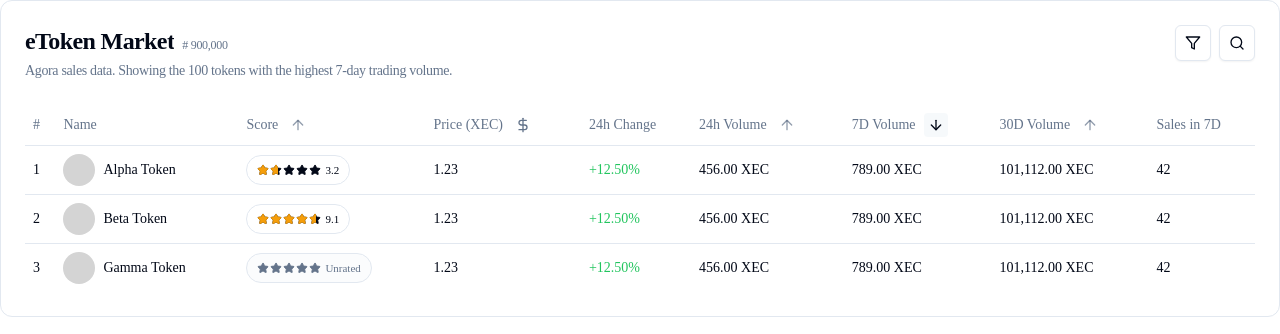
it: TokenTable bootstrap › sorts by score when clicking the Score column sort control
Check: the text "Alpha Token" is shown, box [103,160,176,180]
Check: the text "Beta Token" is shown, box [103,208,167,228]
Click the button without text next to "Score": {"x": 298, "y": 125} [286,113,310,137]
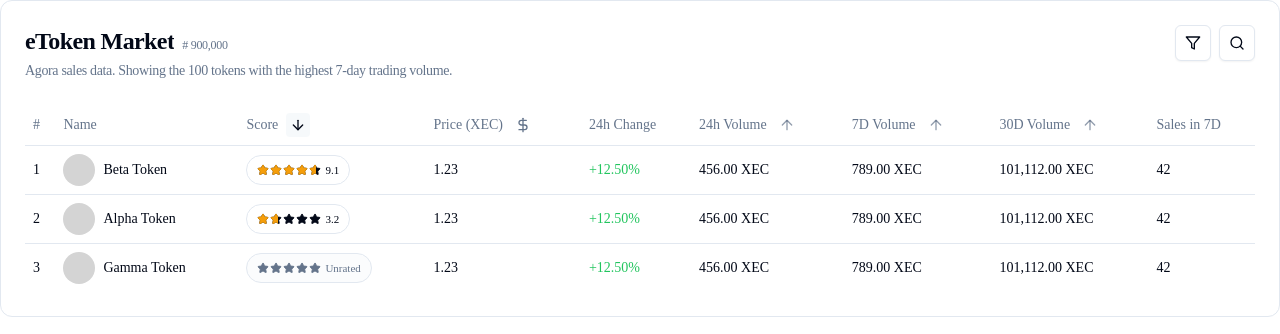
Check: the text "Gamma Token" is shown, box [103,260,186,274]
Check: the text "Beta Token" is shown, box [103,162,167,176]
Check: the text "Alpha Token" is shown, box [103,210,176,226]
